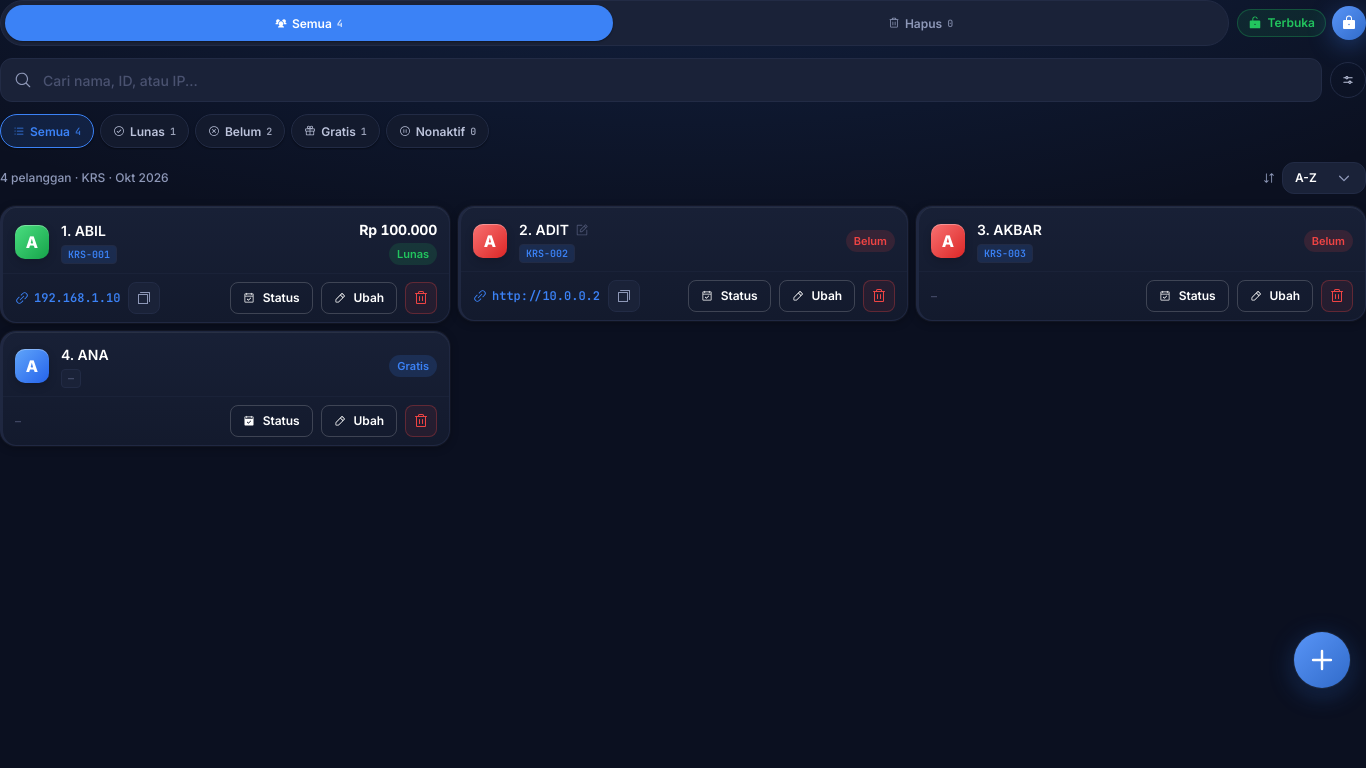
Member — Tambah / Edit (sheet) › Tambah: sheet bertanda zona; nama otomatis huruf besar; ID/IP/tarif/catatan (A23) tersimpan; sheet menutup
Click the button named "Tambah Member" at (1322, 660), box [1294,632,1350,688]
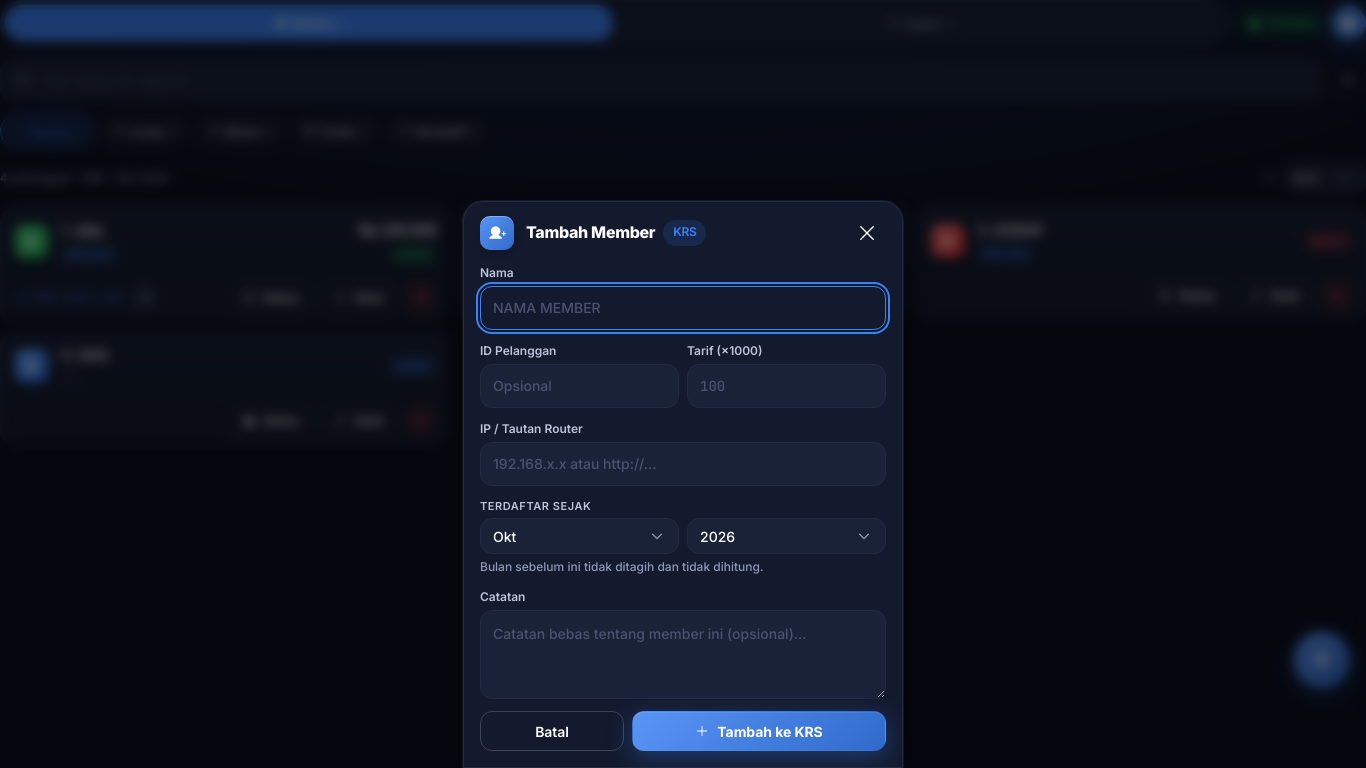
Check: the text "KRS" is shown, box [663,220,706,246]
Type "budi baru" into the field labelled "Nama" at (683, 308), box [480,286,886,330]
Type "KRS-099" into the field labelled "ID Pelanggan" at (580, 386), box [480,364,679,408]
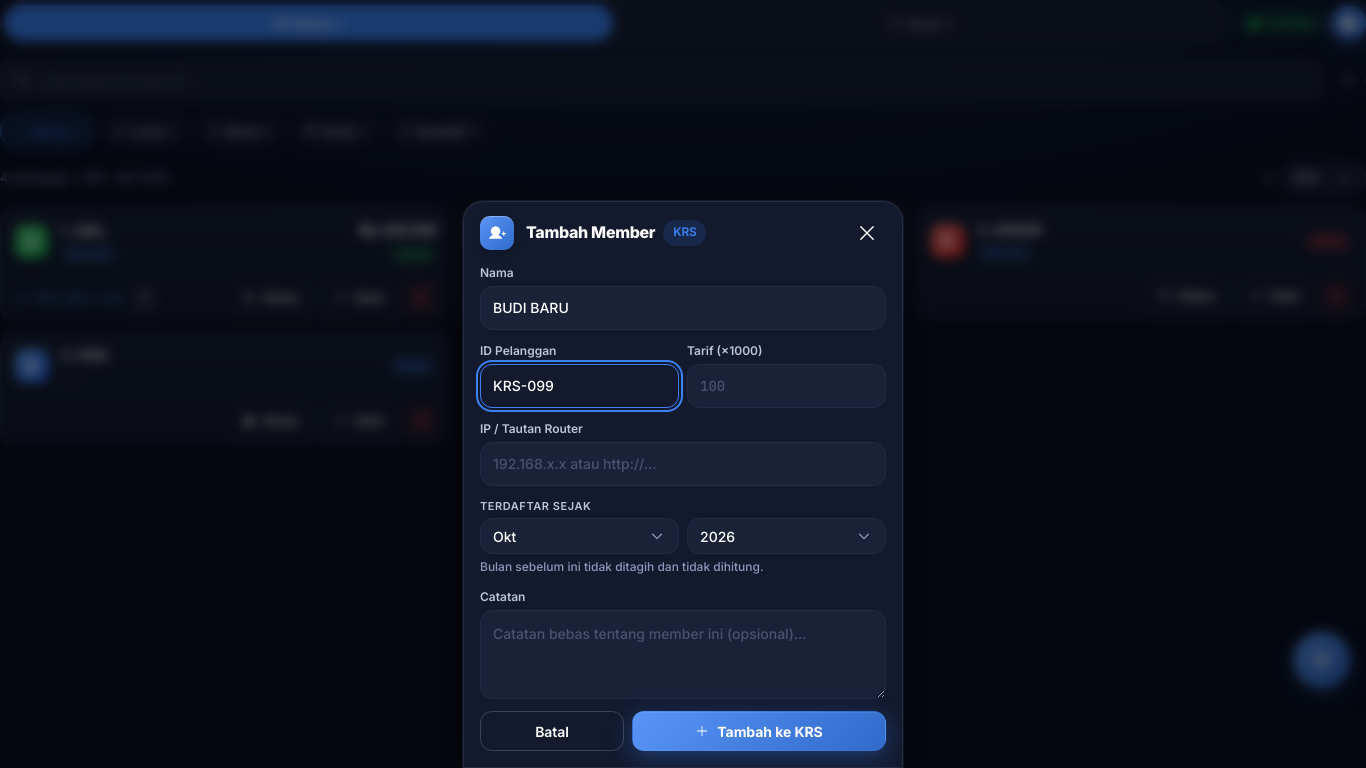
Type "120" into the number field labelled "Tarif (×1000)" at (786, 386), box [687,364,886,408]
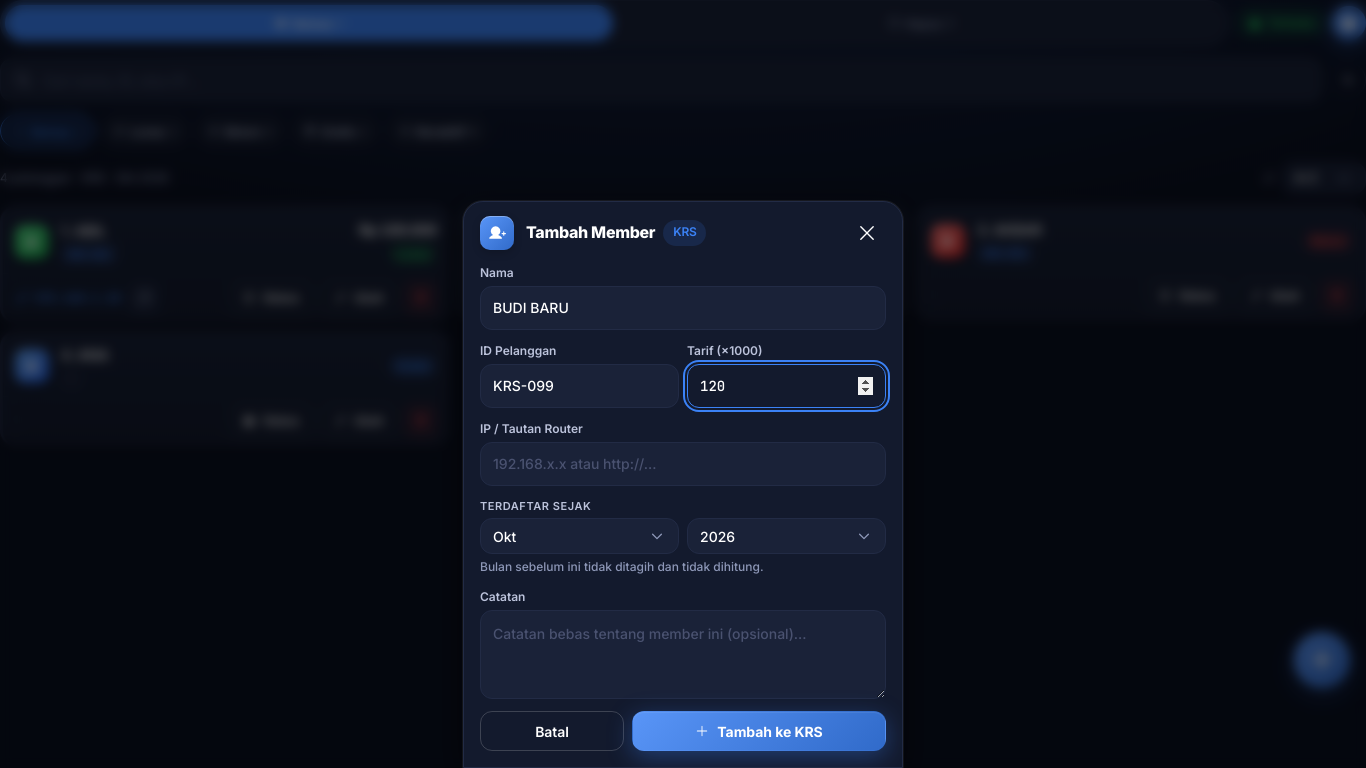
Type "10.9.9.9" into the field labelled "IP / Tautan Router" at (683, 464), box [480,442,886,486]
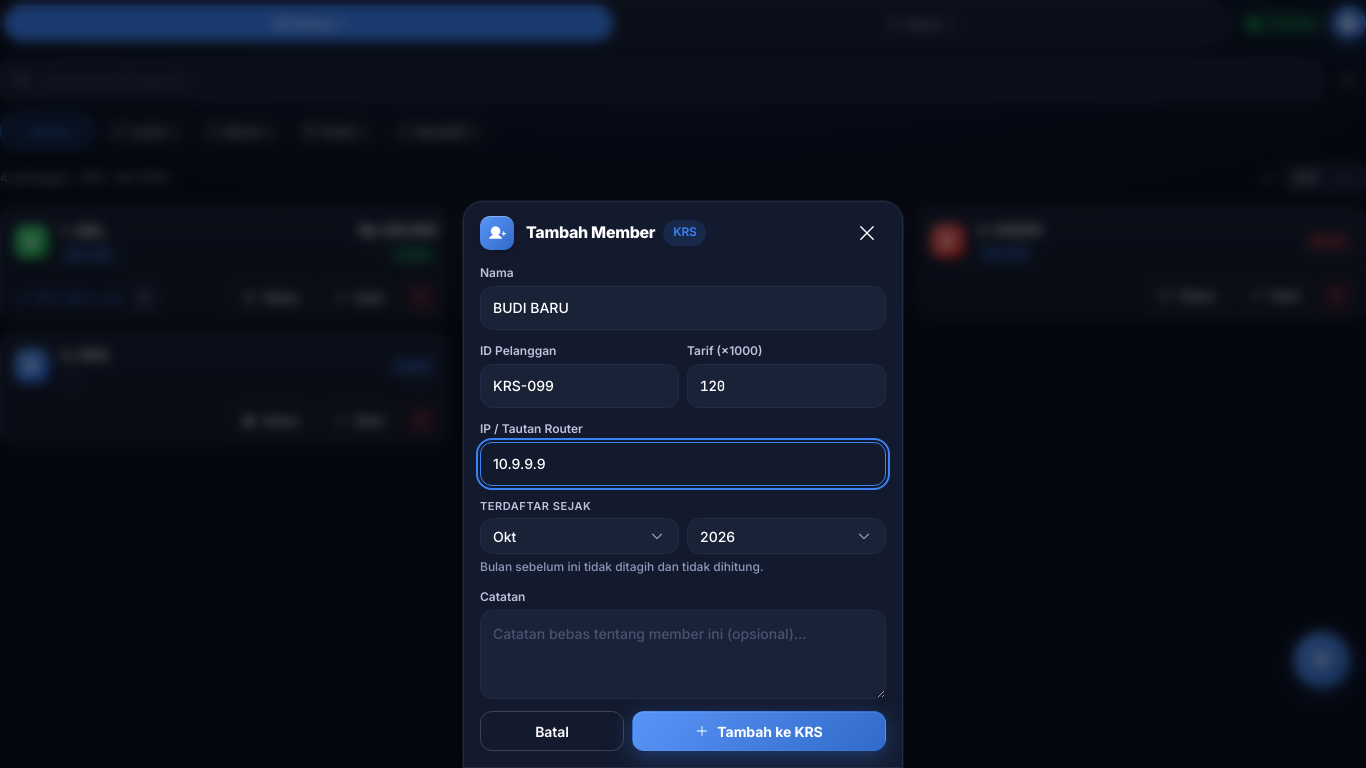
Type "pindahan" into the text box labelled "Catatan" at (683, 654), box [480,610,886,699]
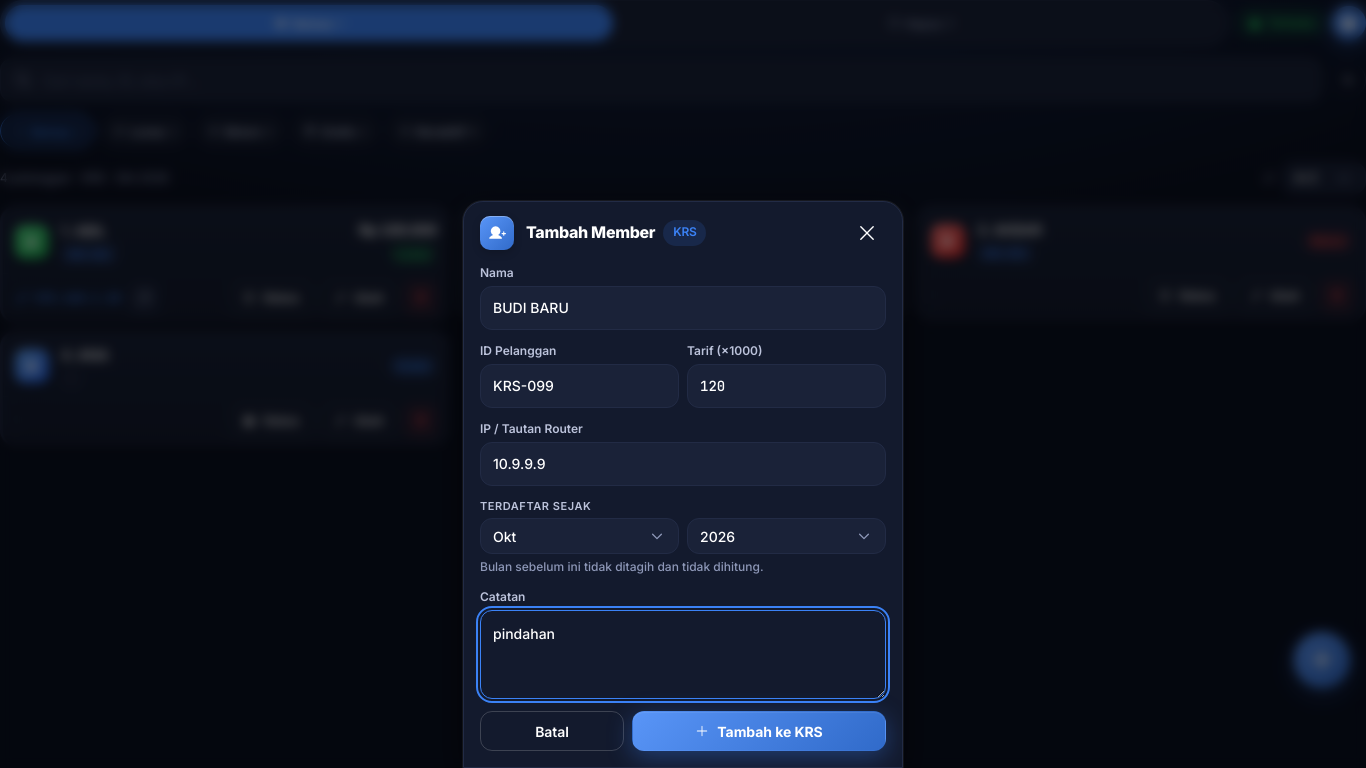
Click the button "Tambah ke KRS" at (759, 731), box [632,711,886,751]
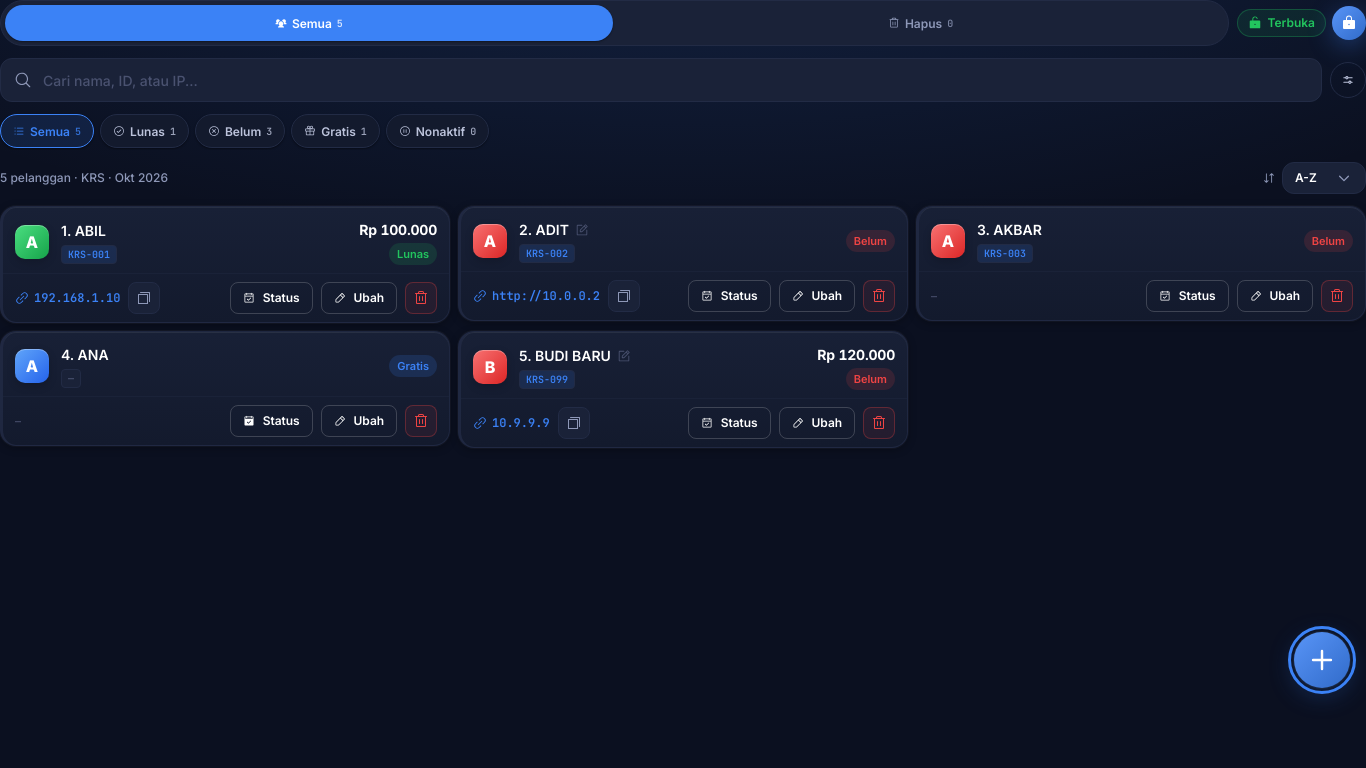
Check: the dialog is gone
